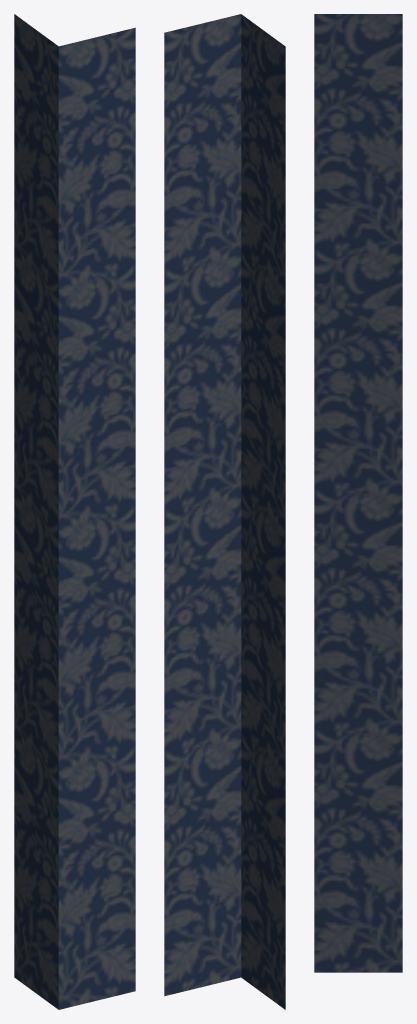
The model's file is indoorCorner.fbx.
3 views of the same model, side by side, from view 1: azimuth 30°, elevation 25°; view 2: azimuth 210°, elevation 25°; view 3: azimuth 270°, elevation 25° (orthographic).
Visible parts, largest first — view 1: indoorCorner; view 2: indoorCorner; view 3: indoorCorner.
Boxes of the visible parts, x1,y1,x2,y2 form: indoorCorner: [14, 14, 135, 1009]; indoorCorner: [164, 14, 285, 1009]; indoorCorner: [314, 14, 402, 972].
Size of the model in its own units: 1 by 12 by 1.
Materials: 1 (1 with a texture image).
